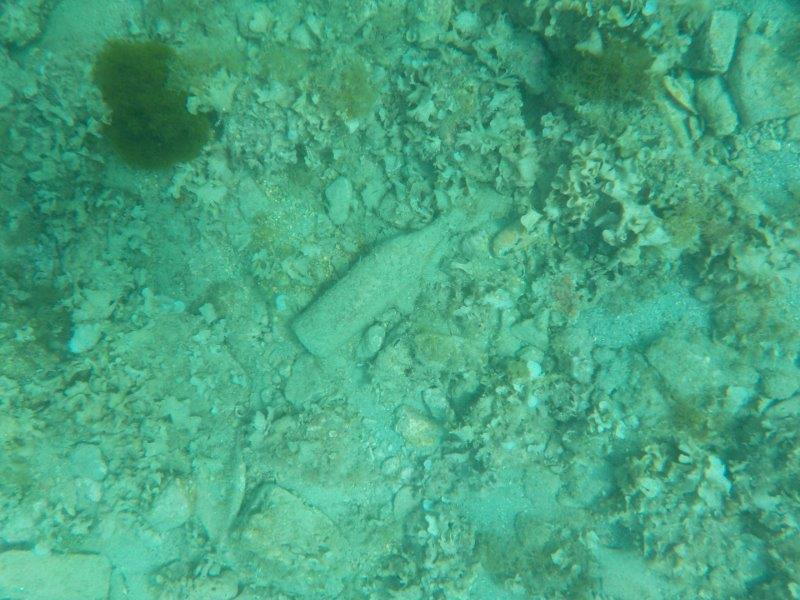bottle: (288, 207, 462, 363)
